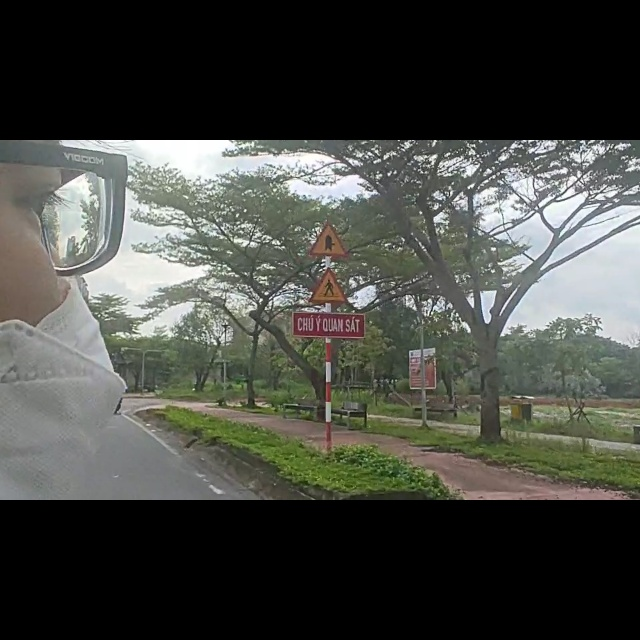bien_nguy_hiem: (301, 141, 356, 210), (305, 223, 353, 292)
